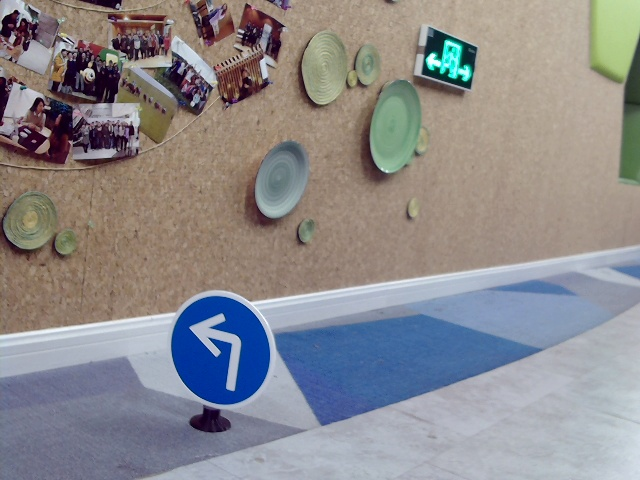turn_left: (190, 306, 241, 391)
